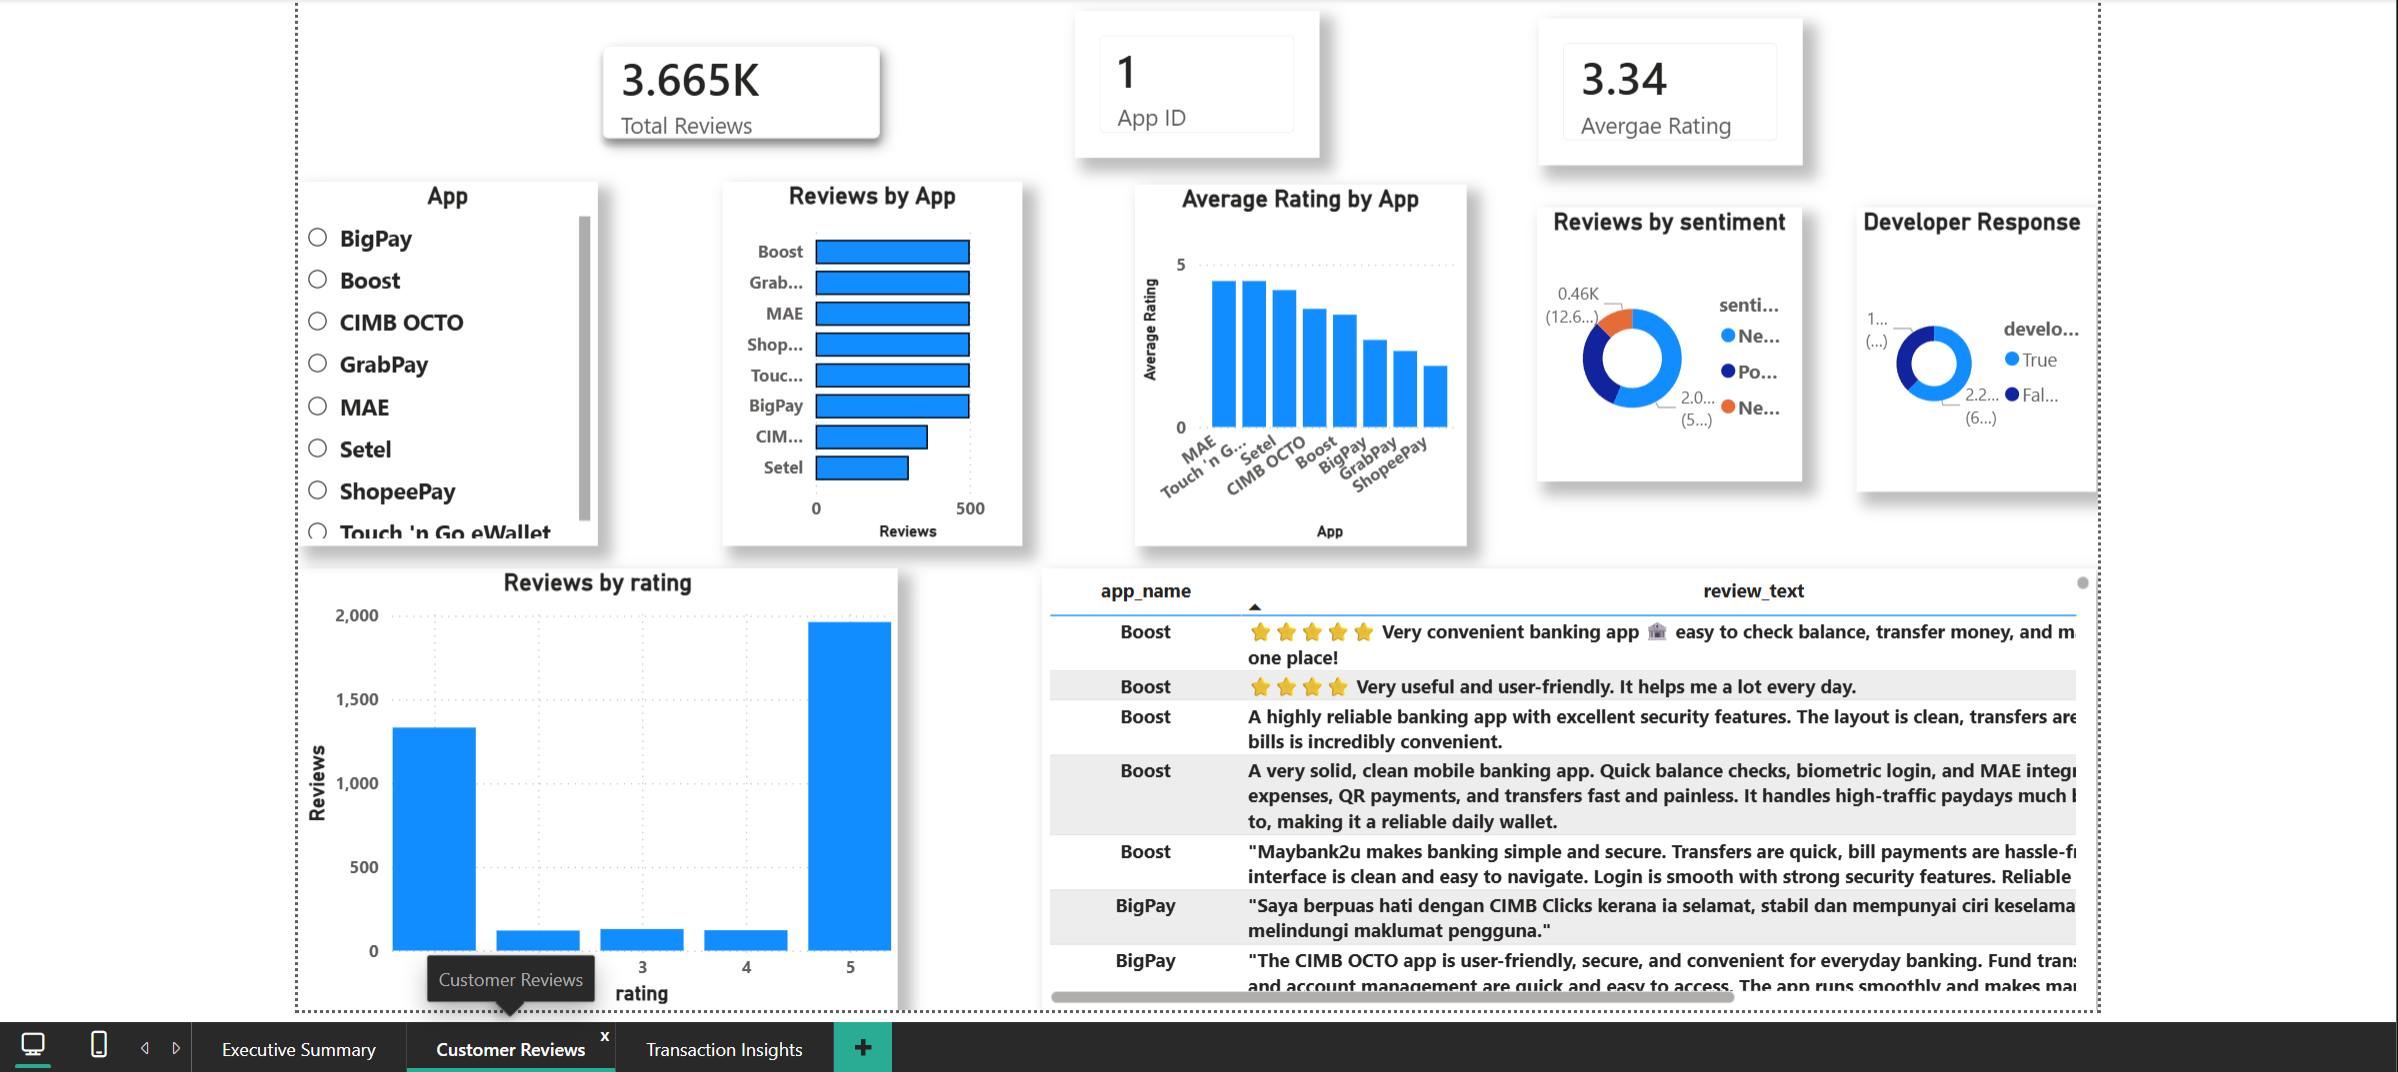

The page's visual inventory and layout, read from the dashboard file:
{"tool":"powerbi","page":{"name":"Customer  Reviews","canvas":[1280,720],"ordinal":1},"visuals":[{"type":"cardVisual","fields":{"Data":["Avg(public reviews.rating)"]},"box":[5.7,8,175.3,100.2],"z":0},{"type":"cardVisual","fields":{"Data":["CountNonNull(public reviews.review_id)"]},"box":[5.7,127.5,175.3,112.7],"z":1000},{"type":"clusteredColumnChart","fields":{"Category":["public apps.app_name"],"Y":["Avg(public reviews.rating)"]},"box":[538.9,441.8,243.3,278.5],"z":2000},{"type":"clusteredColumnChart","fields":{"Category":["public reviews.rating"],"Y":["CountNonNull(public reviews.review_id)"]},"box":[236.9,441.8,282.8,278.5],"z":3000},{"type":"donutChart","fields":{"Category":["public reviews.sentiment"],"Y":["CountNonNull(public reviews.review_id)"]},"box":[798.3,441.8,236.9,278.5],"z":4000},{"type":"donutChart","title":"Developer Response","fields":{"Category":["public reviews.developer_reply"],"Y":["CountNonNull(public reviews.review_id)"]},"box":[1042.7,441.8,236.9,278.5],"z":5000},{"type":"tableEx","fields":{"Values":["public apps.app_name","public reviews.review_text","public reviews.sentiment","public reviews.review_date.Variation.Date Hierarchy.Year","public reviews.review_date.Variation.Date Hierarchy.Month","public reviews.review_date.Variation.Date Hierarchy.Day"]},"box":[213.4,7.5,1066.1,393.8],"z":6000},{"type":"listSlicer","fields":{"Values":["public apps.app_name"]},"box":[5.7,441.6,201.4,278.8],"z":7000},{"type":"cardVisual","fields":{"Data":["public reviews.Positive Reviews %"]},"box":[5.3,270,175,131.3],"z":8000}]}

Visuals, with their boxes on the page's 1280x720 design canvas (x1, y1, x2, y2). These are canvas units, not pixel positions in the 2398x1072 screenshot, which may show the page scaled, cropped or inside an application window:
cardVisual - Avg(public reviews.rating): [6, 8, 181, 108]
cardVisual - CountNonNull(public reviews.review_id): [6, 128, 181, 240]
clusteredColumnChart - public apps.app_name x Avg(public reviews.rating): [539, 442, 782, 720]
clusteredColumnChart - public reviews.rating x CountNonNull(public reviews.review_id): [237, 442, 520, 720]
donutChart - public reviews.sentiment x CountNonNull(public reviews.review_id): [798, 442, 1035, 720]
"Developer Response" donutChart: [1043, 442, 1280, 720]
tableEx - public apps.app_name x public reviews.review_text: [213, 8, 1280, 401]
listSlicer - public apps.app_name: [6, 442, 207, 720]
cardVisual - public reviews.Positive Reviews %: [5, 270, 180, 401]
